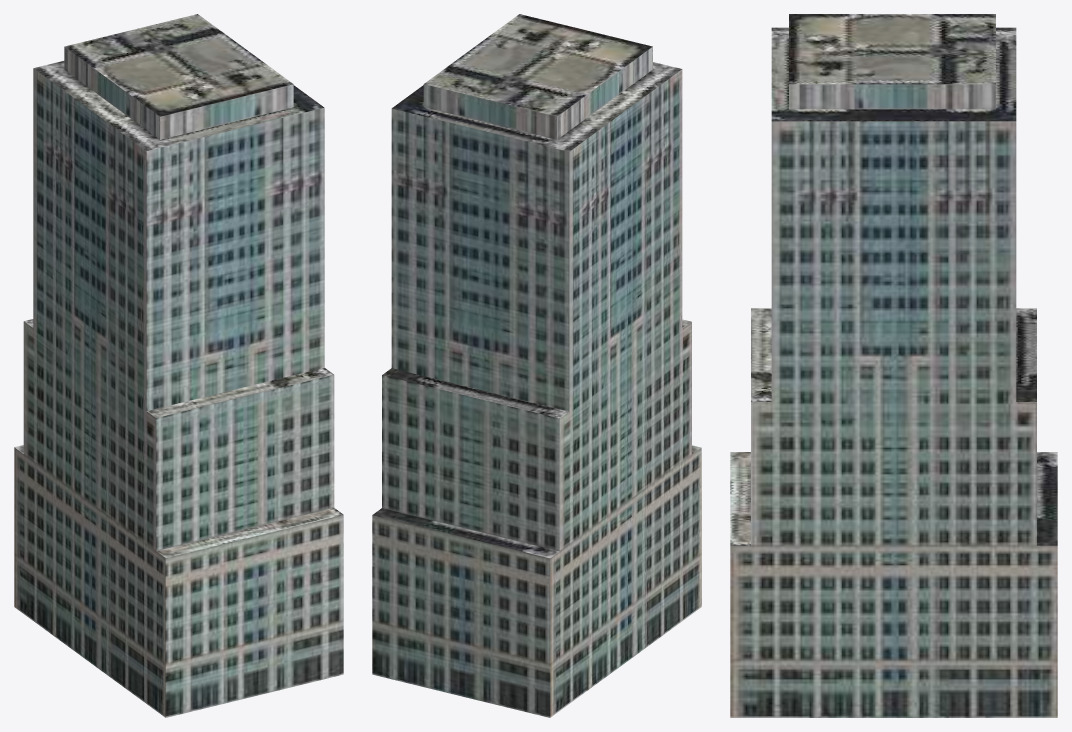
The picture shows the model from 3 angles, left to right: view 1: azimuth 30°, elevation 25°; view 2: azimuth 150°, elevation 25°; view 3: azimuth 270°, elevation 25°; orthographic projection. The views are drawn at different scales.
Parts seen in each view (by area): view 1: b173; view 2: b173; view 3: b173.
Boxes of the visible parts, x1,y1,x2,y2 form: b173: [14, 14, 343, 717]; b173: [372, 14, 701, 717]; b173: [730, 14, 1057, 717].
Bounding box in the file's own units: 34.88 × 108 × 51.46.
Materials: 1 (1 with a texture image).
